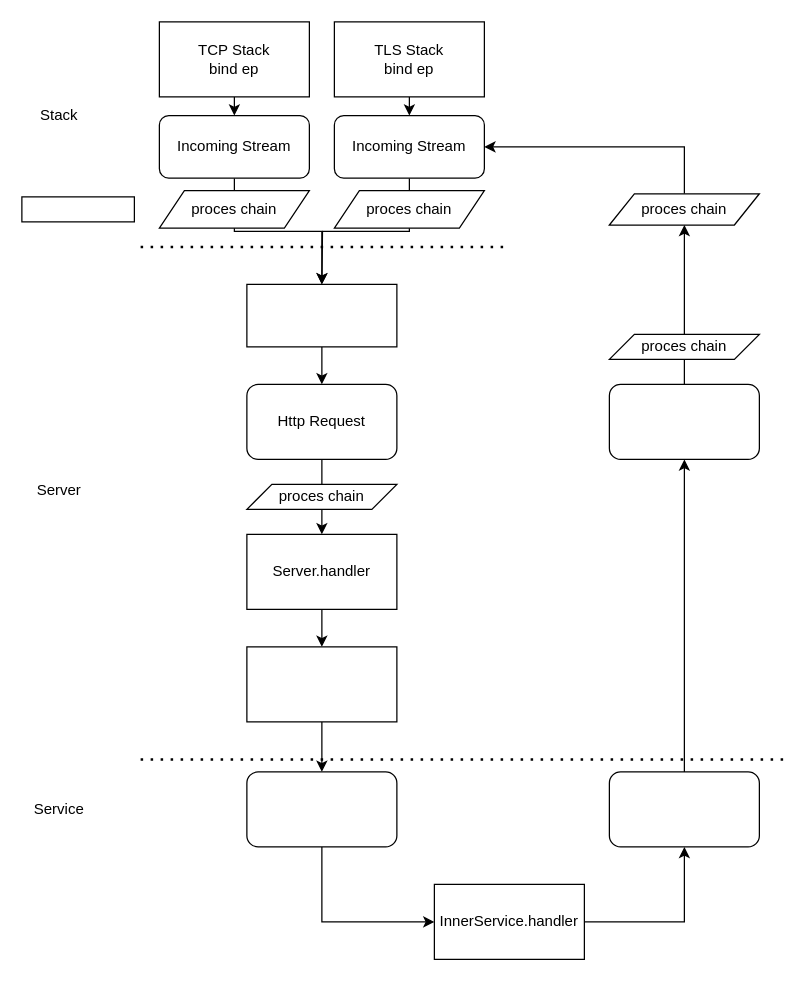
Image size: 809x981. Some labels were removed from this diagram. Each missing label, with the centre of its shape:
Http Response: point (683, 421)
InnerService Router.handler: point (321, 684)
JSON Request: point (321, 809)
JSON Resp: point (683, 809)
Protcol probe: point (77, 209)
Protocl Parser: point (321, 315)
